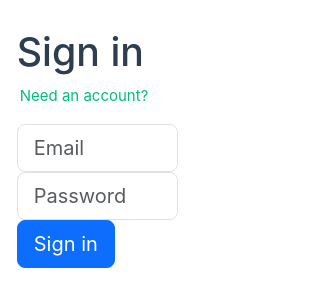
Test case: LoginPage › error formatting › supports a plain string message (non-array)
Step 1. Type "jane@example.com" into the field with placeholder "Email" → (98, 148), box [17,124,178,172]
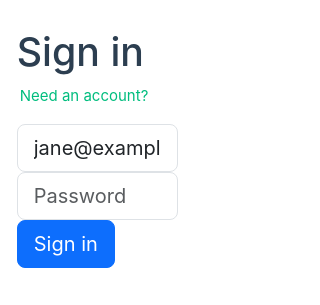
Step 2. Type "secret" into the password field with placeholder "Password" → (98, 196), box [17,172,178,220]
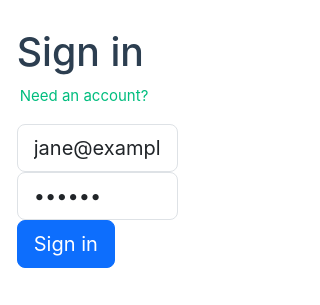
Step 3. Submit the form, box [17,124,178,268]
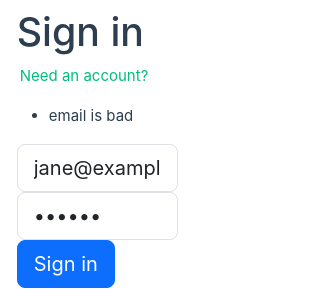
Now the list item "email is bad" is shown, box [49,106,133,125]
